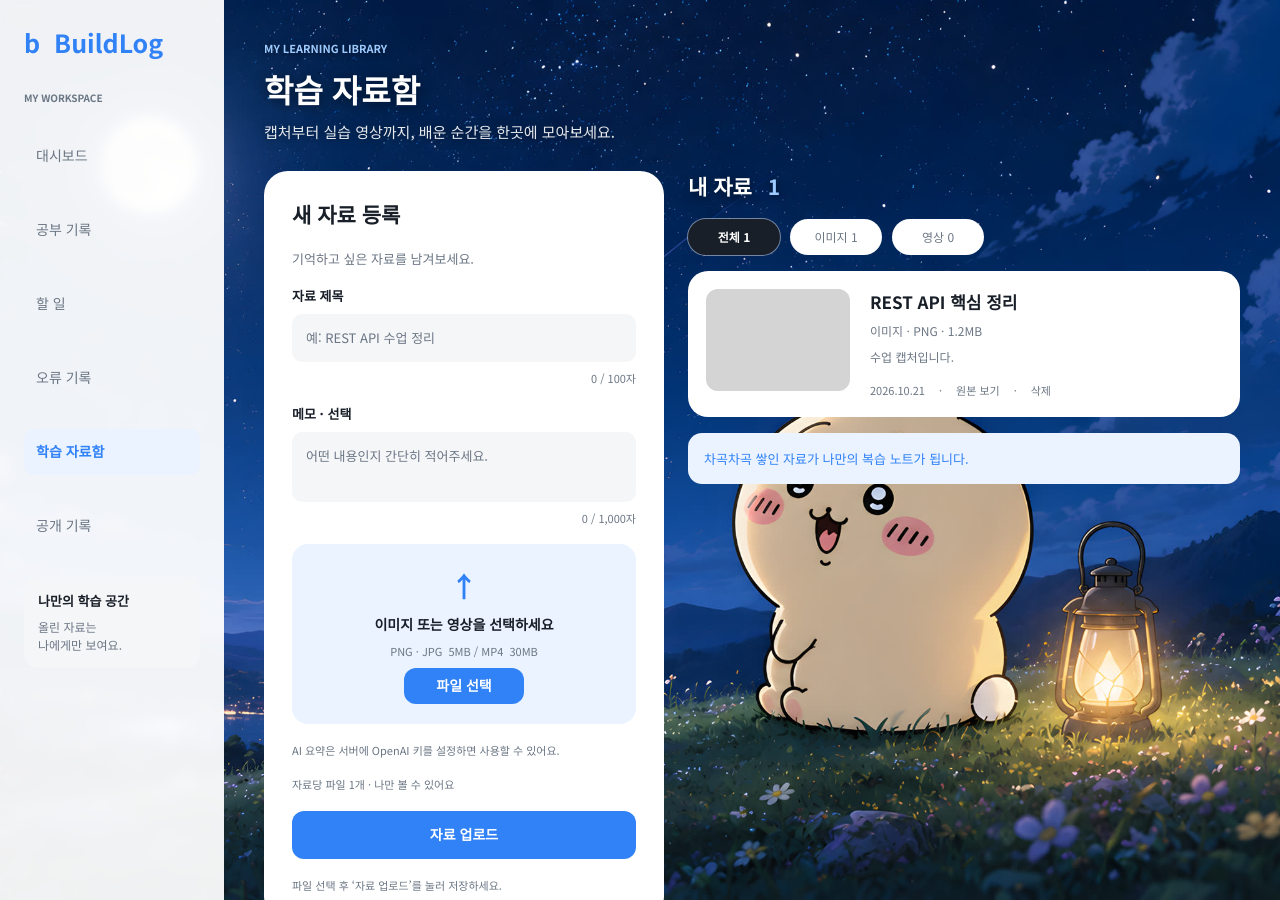
Test: 학습 자료함 화면 › 해당 종류의 자료가 없으면 그 종류가 없다고 알린다
The width and height of the screenshot is (1280, 900).
expect the heading "학습 자료함" is shown: met, box [264,66,420,112]
expect the heading "REST API 핵심 정리" is shown: met, box [870,288,1018,314]
Click the button "영상 0".
click(938, 236)  # box [892,218,984,254]
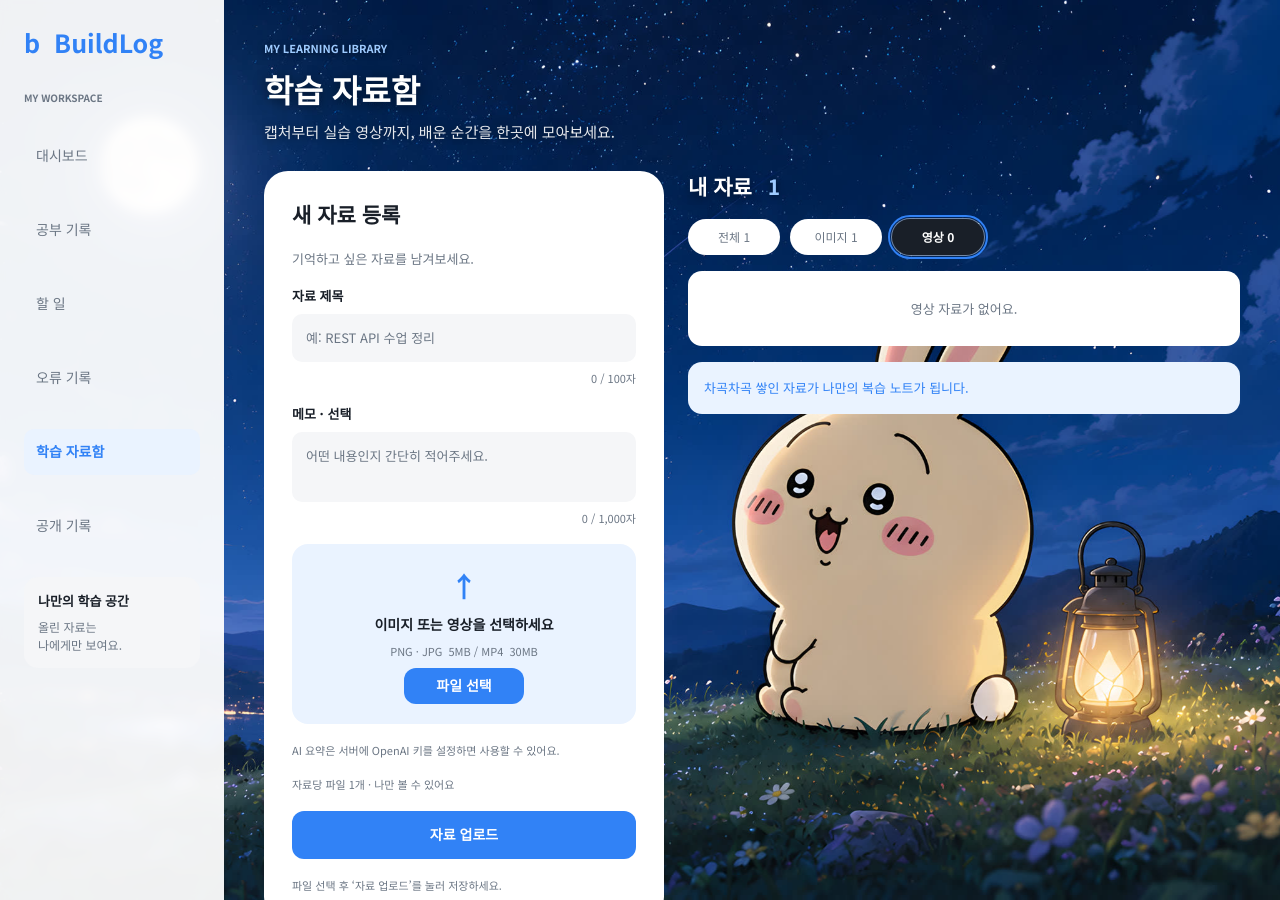
expect the text "영상 자료가 없어요." is shown: met, box [688,270,1240,346]
